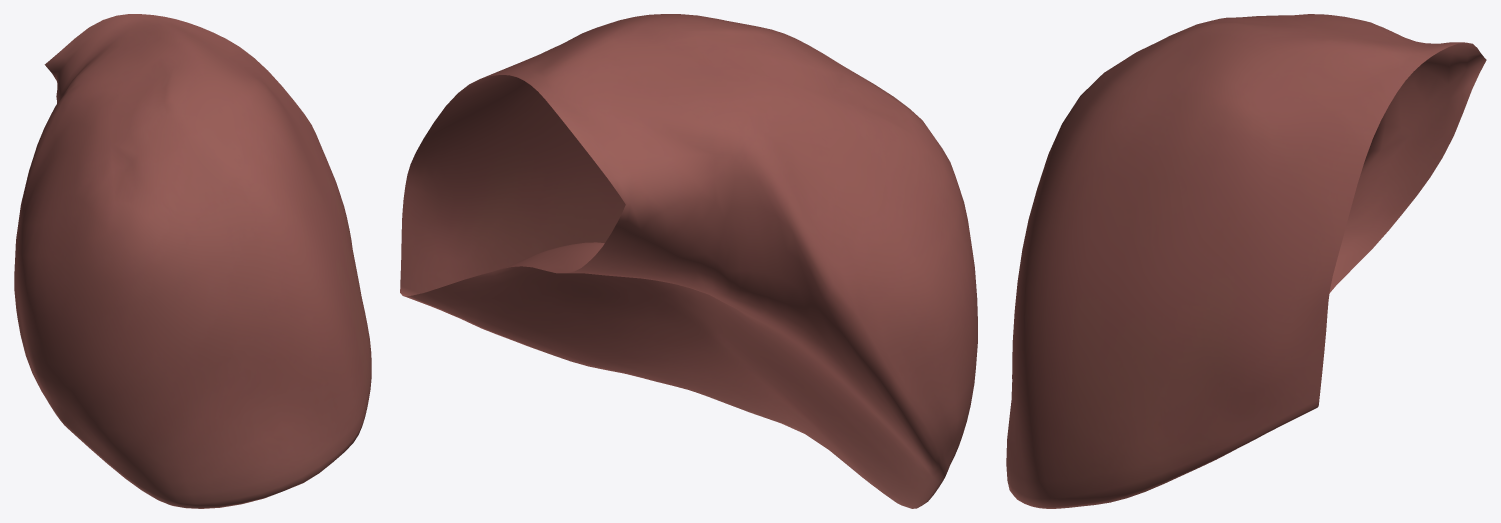
File: liver_left.fbx
3 views of the same model, side by side, from view 1: azimuth 30°, elevation 25°; view 2: azimuth 150°, elevation 25°; view 3: azimuth 270°, elevation 25° (orthographic). The views are drawn at different scales.
Parts seen in each view (by area): view 1: rlobe; view 2: rlobe; view 3: rlobe.
Boxes of the visible parts, <box> form: rlobe: <box>14,14,371,508</box>; rlobe: <box>400,14,977,508</box>; rlobe: <box>1006,14,1486,508</box>.
Bounding box in the file's own units: 4.64 × 4.82 × 4.44.
Materials: 1 (1 with a texture image).
